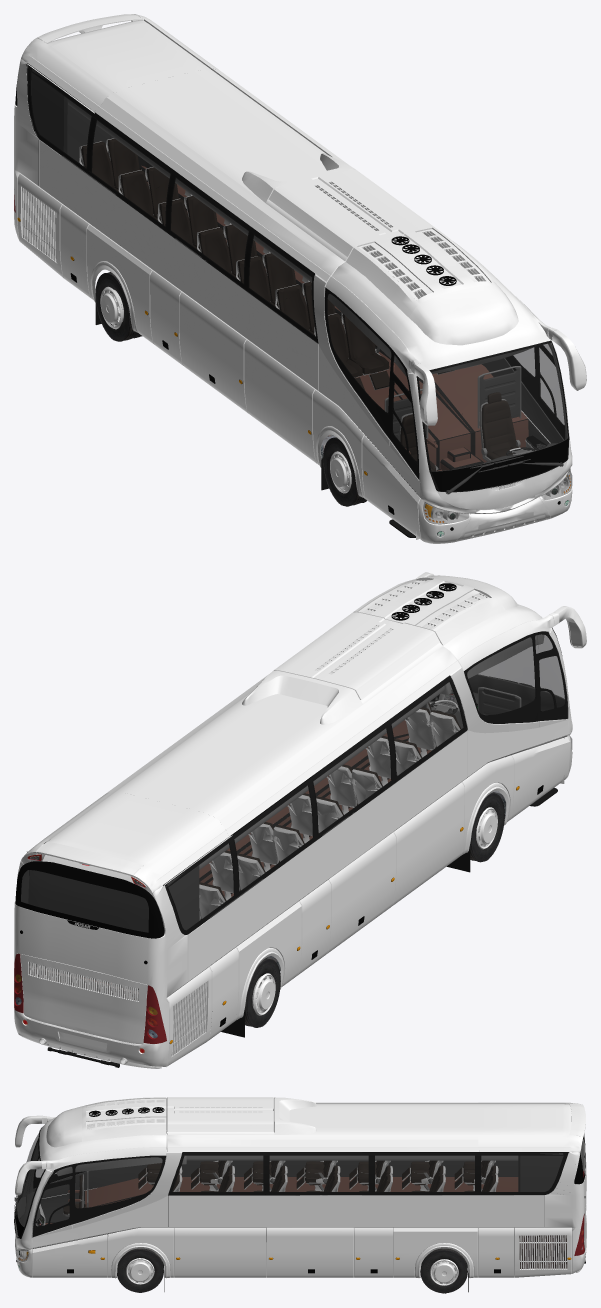
Rendered from irizar_i6.glb.
The picture shows the model from 3 angles, top to bottom: view 1: azimuth 30°, elevation 25°; view 2: azimuth 150°, elevation 25°; view 3: azimuth 270°, elevation 25°; orthographic projection. The views are drawn at different scales.
Visible parts, largest first — view 1: 0.BODI_termoantena2006, 6.kaca_parabrisas, 2.kursi_kanan_Cube.003, 0.LIS_termoantena2006.006, 0.INTER_termoantena2006.016, 0.lantai_Plane.001, 2.kursi_supir_Cube.007, 6.ban_rim2Shape.002, 1.plafon_Cube.006, 1.skat_Cube.001, 5.pelek_PELEK_DOP, 1.lampu_termoantena2006.003 (+1 smaller); view 2: 0.BODI_termoantena2006, 6.kaca_parabrisas, 2.kursi_kanan_Cube.003, 0.INTER_termoantena2006.016, 0.LIS_termoantena2006.006, 6.ban_rim2Shape.002, 1.plafon_Cube.006, 0.lantai_Plane.001, 1.lampu_termoantena2006.003, 5.pelek_PELEK_DOP, 3.kaca_lampu_vidriofaro, 1.skat_Cube.001; view 3: 0.BODI_termoantena2006, 6.kaca_parabrisas, 0.INTER_termoantena2006.016, 0.LIS_termoantena2006.006, 2.kursi_kanan_Cube.003, 0.lantai_Plane.001, 1.plafon_Cube.006, 6.ban_rim2Shape.002, 2.kursi_kiri_Cube.010, Cube, 5.pelek_PELEK_DOP, 1.lampu_termoantena2006.003 (+3 smaller).
Boxes of the visible parts, x1,y1,x2,y2 form: 0.BODI_termoantena2006: [14, 14, 586, 543]; 6.kaca_parabrisas: [27, 66, 567, 478]; 2.kursi_kanan_Cube.003: [79, 138, 389, 390]; 0.LIS_termoantena2006.006: [27, 63, 569, 492]; 0.INTER_termoantena2006.016: [26, 63, 568, 497]; 0.lantai_Plane.001: [139, 165, 528, 471]; 2.kursi_supir_Cube.007: [398, 392, 520, 471]; 6.ban_rim2Shape.002: [95, 272, 366, 506]; 1.plafon_Cube.006: [68, 99, 533, 376]; 1.skat_Cube.001: [384, 366, 521, 439]; 5.pelek_PELEK_DOP: [100, 286, 351, 493]; 1.lampu_termoantena2006.003: [14, 20, 571, 536]; 0.BODI_termoantena2006: [14, 572, 586, 1068]; 6.kaca_parabrisas: [21, 631, 567, 934]; 2.kursi_kanan_Cube.003: [199, 707, 460, 919]; 0.INTER_termoantena2006.016: [21, 635, 568, 991]; 0.LIS_termoantena2006.006: [20, 627, 567, 1037]; 6.ban_rim2Shape.002: [245, 793, 504, 1027]; 1.plafon_Cube.006: [199, 634, 544, 869]; 0.lantai_Plane.001: [78, 720, 431, 984]; 1.lampu_termoantena2006.003: [14, 854, 166, 1053]; 5.pelek_PELEK_DOP: [253, 807, 497, 1015]; 3.kaca_lampu_vidriofaro: [14, 736, 572, 1043]; 1.skat_Cube.001: [406, 687, 521, 723]; 0.BODI_termoantena2006: [14, 1097, 586, 1278]; 6.kaca_parabrisas: [17, 1133, 584, 1237]; 0.INTER_termoantena2006.016: [16, 1141, 568, 1248]; 0.LIS_termoantena2006.006: [14, 1127, 568, 1292]; 2.kursi_kanan_Cube.003: [138, 1160, 495, 1190]; 0.lantai_Plane.001: [45, 1177, 518, 1224]; 1.plafon_Cube.006: [56, 1155, 518, 1175]; 6.ban_rim2Shape.002: [117, 1248, 467, 1293]; 2.kursi_kiri_Cube.010: [148, 1165, 498, 1191]; Cube: [519, 1235, 567, 1268]; 5.pelek_PELEK_DOP: [126, 1258, 458, 1285]; 1.lampu_termoantena2006.003: [16, 1171, 584, 1268].
Bounding box in the file's own units: 3 × 4.19 × 13.61.
30 materials, 15 textured.
